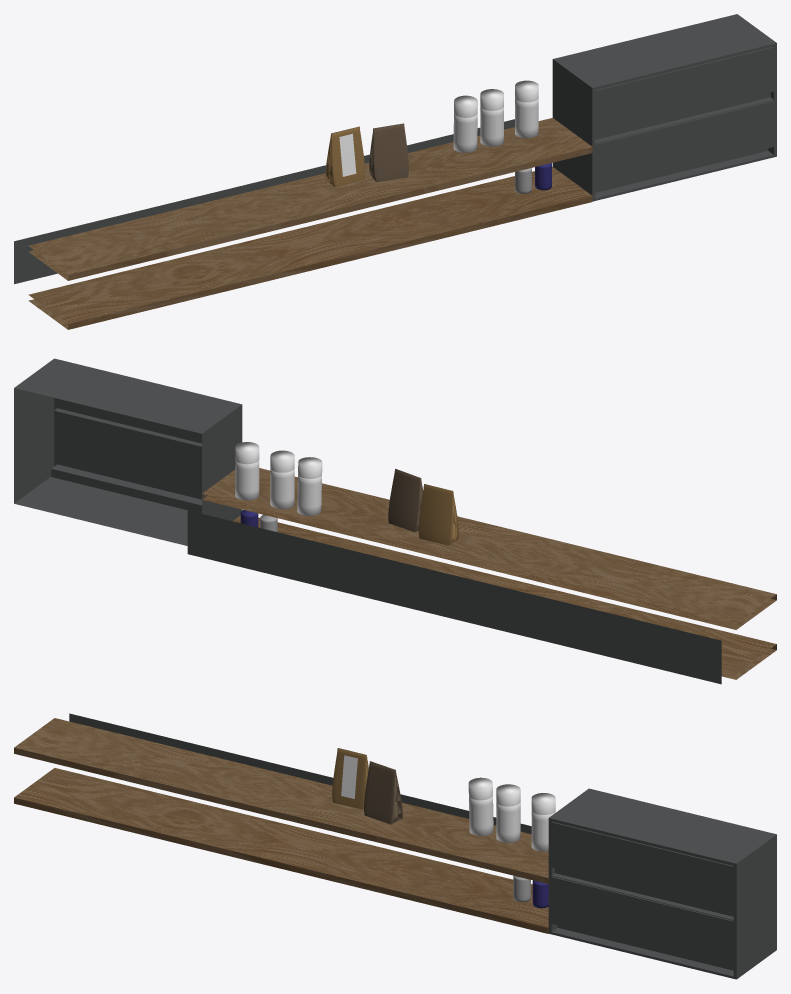
File: shelves.glb
The picture shows the model from 3 angles, top to bottom: view 1: azimuth 30°, elevation 25°; view 2: azimuth 150°, elevation 25°; view 3: azimuth 330°, elevation 25°; orthographic projection.
Parts seen in each view (by area): view 1: shelf, shelfBox, BagCoffe2, BagCoffe, Bottlepot5.001, Bottlepot5, Bottlepot5.002; view 2: shelfBox, shelf, BagCoffe, BagCoffe2, Bottlepot5, Bottlepot5.002, Bottlepot5.001; view 3: shelf, shelfBox, BagCoffe2, BagCoffe, Bottlepot5, Bottlepot5.001, Bottlepot5.002.
Boxes of the visible parts, box(x1,y1,x2,y2) form: shelf: box(28, 118, 592, 329); shelfBox: box(14, 14, 776, 284); BagCoffe2: box(369, 123, 408, 182); BagCoffe: box(325, 126, 365, 187); Bottlepot5.001: box(453, 95, 477, 152); Bottlepot5: box(480, 89, 503, 146); Bottlepot5.002: box(515, 80, 538, 138); shelfBox: box(14, 358, 721, 684); shelf: box(202, 468, 776, 679); BagCoffe: box(418, 484, 458, 545); BagCoffe2: box(388, 469, 423, 532); Bottlepot5: box(270, 450, 294, 509); Bottlepot5.002: box(235, 442, 259, 500); Bottlepot5.001: box(297, 457, 322, 515); shelf: box(14, 718, 548, 933); shelfBox: box(69, 713, 776, 979); BagCoffe2: box(364, 761, 402, 824); BagCoffe: box(332, 748, 368, 809); Bottlepot5: box(496, 784, 520, 842); Bottlepot5.001: box(468, 777, 493, 835); Bottlepot5.002: box(531, 793, 555, 851).
Size of the model in its own units: 160 by 24.51 by 21.18.
10 materials, 1 textured.
